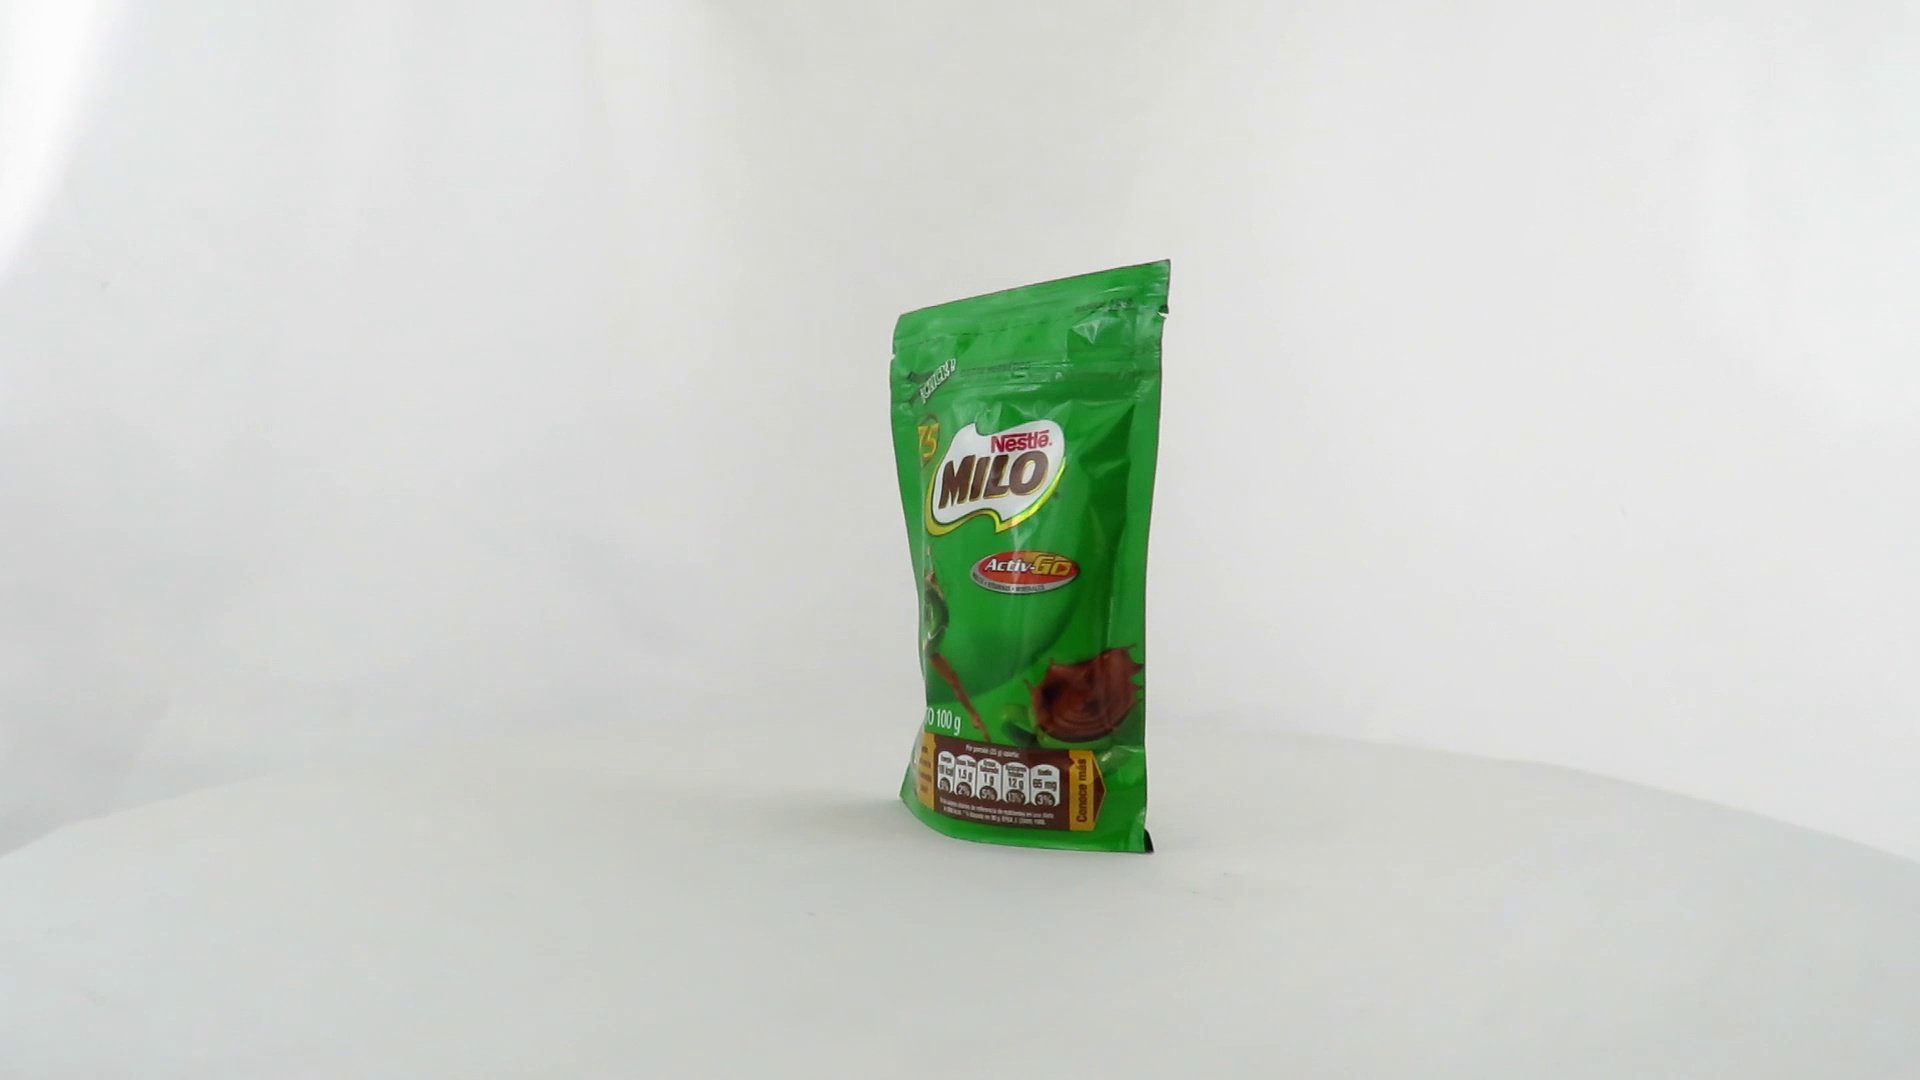COL0170203DYP10000: (884, 255, 1178, 861)
